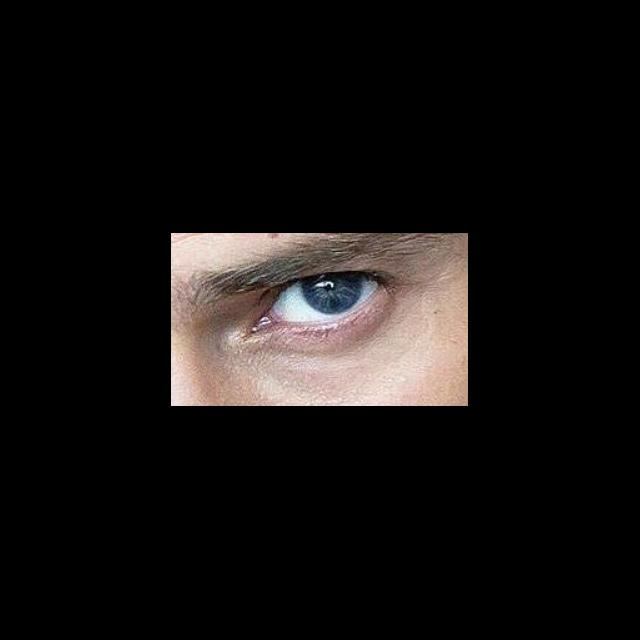eye: (278, 277, 383, 322)
iris: (303, 278, 362, 316)
